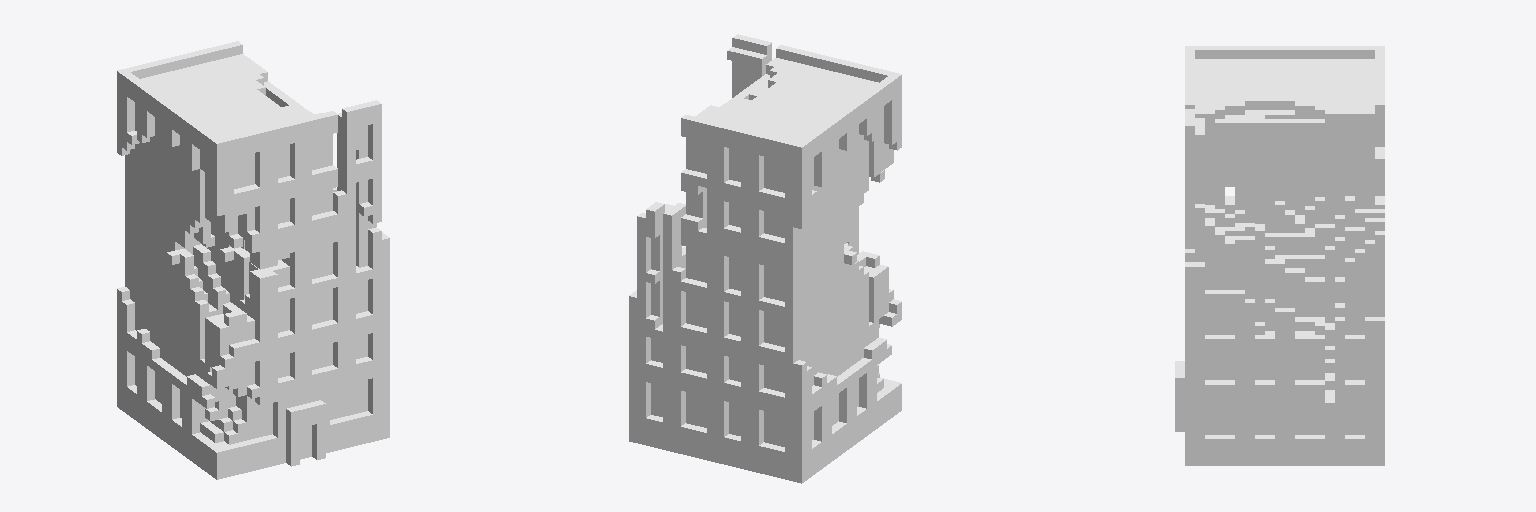
Rendered from building3.obj.
3 views of the same model, side by side, from view 1: azimuth 30°, elevation 25°; view 2: azimuth 150°, elevation 25°; view 3: azimuth 270°, elevation 25° (orthographic).
Parts seen in each view (by area): view 1: object 1; view 2: object 1; view 3: object 1.
Part boxes in pixels (left/top/right/bottom): object 1: left=117, top=41, right=389, bottom=479; object 1: left=629, top=34, right=901, bottom=483; object 1: left=1175, top=46, right=1384, bottom=465.
Bounding box in the file's own units: 2 × 3.7 × 2.1.